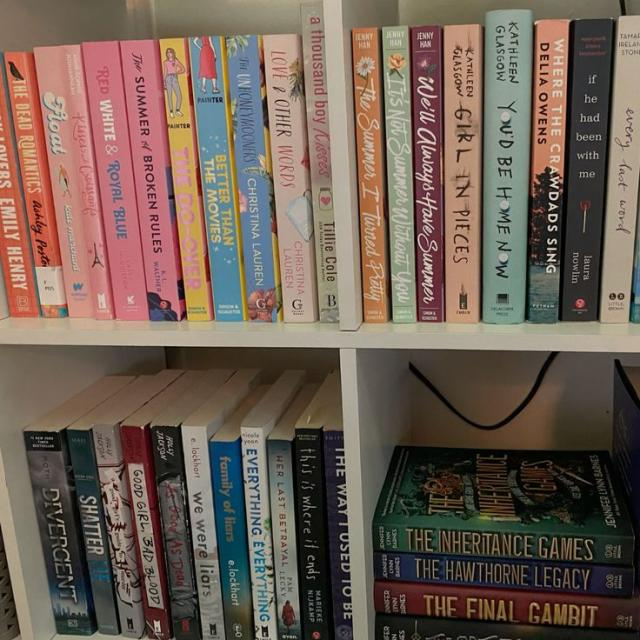book: (34, 45, 112, 319), (83, 41, 149, 320), (121, 40, 186, 321), (558, 20, 613, 321), (5, 52, 66, 317), (22, 427, 97, 637), (482, 10, 532, 323), (263, 34, 317, 322), (190, 37, 244, 320), (159, 38, 213, 320), (226, 36, 278, 322), (65, 427, 125, 636), (376, 552, 634, 600), (599, 16, 639, 323), (528, 20, 568, 322), (301, 3, 338, 322), (443, 24, 482, 323), (375, 583, 639, 627), (150, 423, 203, 640), (352, 28, 389, 323), (119, 428, 171, 636), (374, 522, 631, 563), (0, 53, 38, 317), (94, 426, 141, 639), (383, 28, 416, 323), (410, 28, 443, 322), (182, 425, 227, 639), (210, 438, 253, 640), (297, 426, 335, 640), (245, 423, 279, 639), (267, 440, 301, 637), (323, 431, 353, 640)
